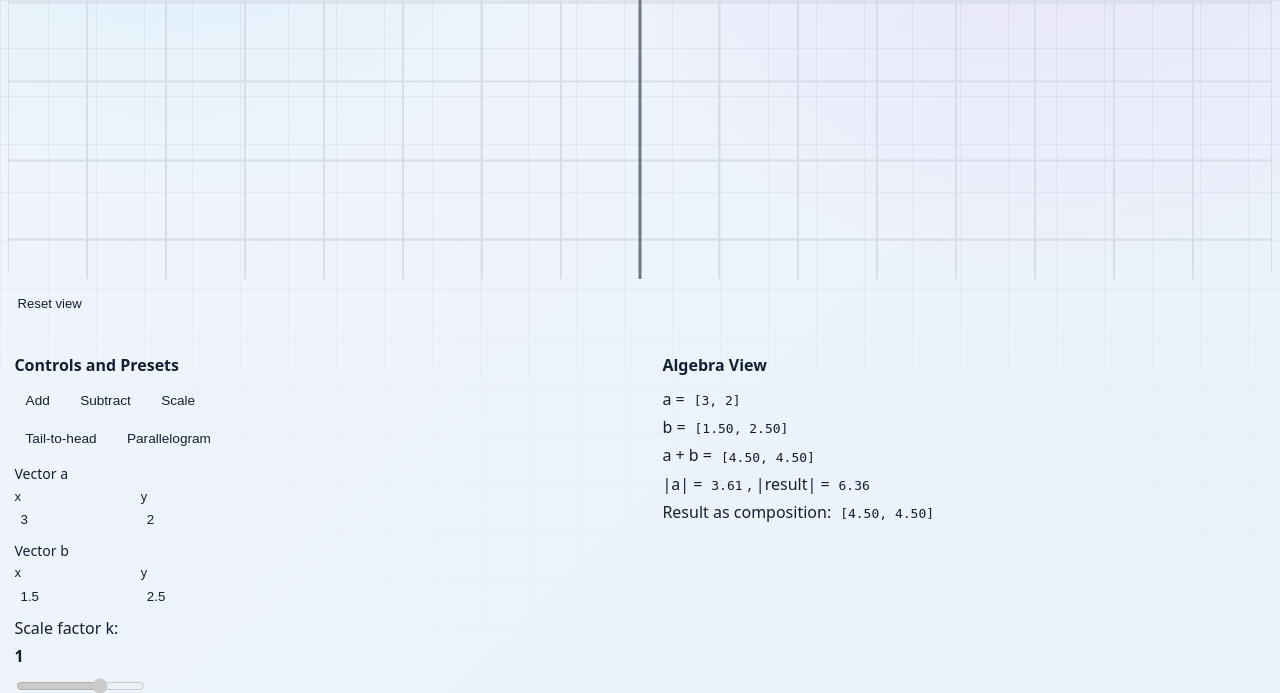
Vector2DModule › switches to scale mode and enables scalar interpretation text
(page scrolled)
Click the button "Scale". click: x=178, y=401
box: [150,388,206,414]
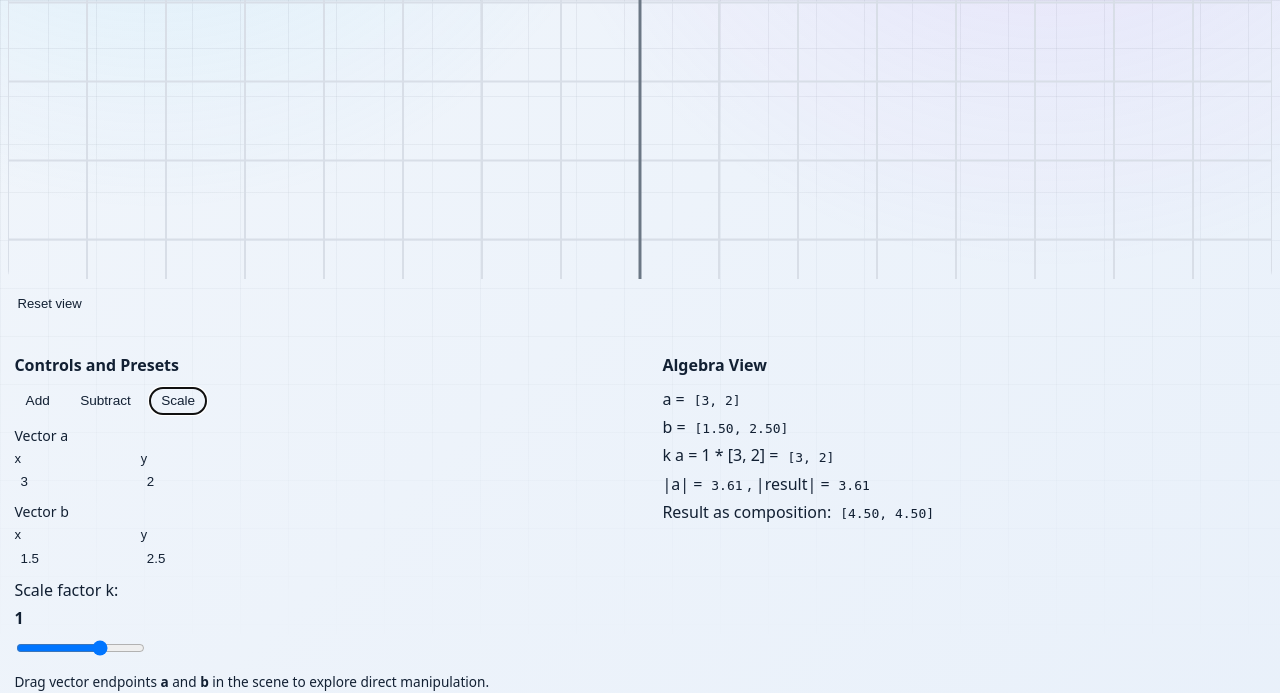
Expected: the text "k a = 1 * [3, 2] = [3, 2]" is shown, [662,444,834,466]
